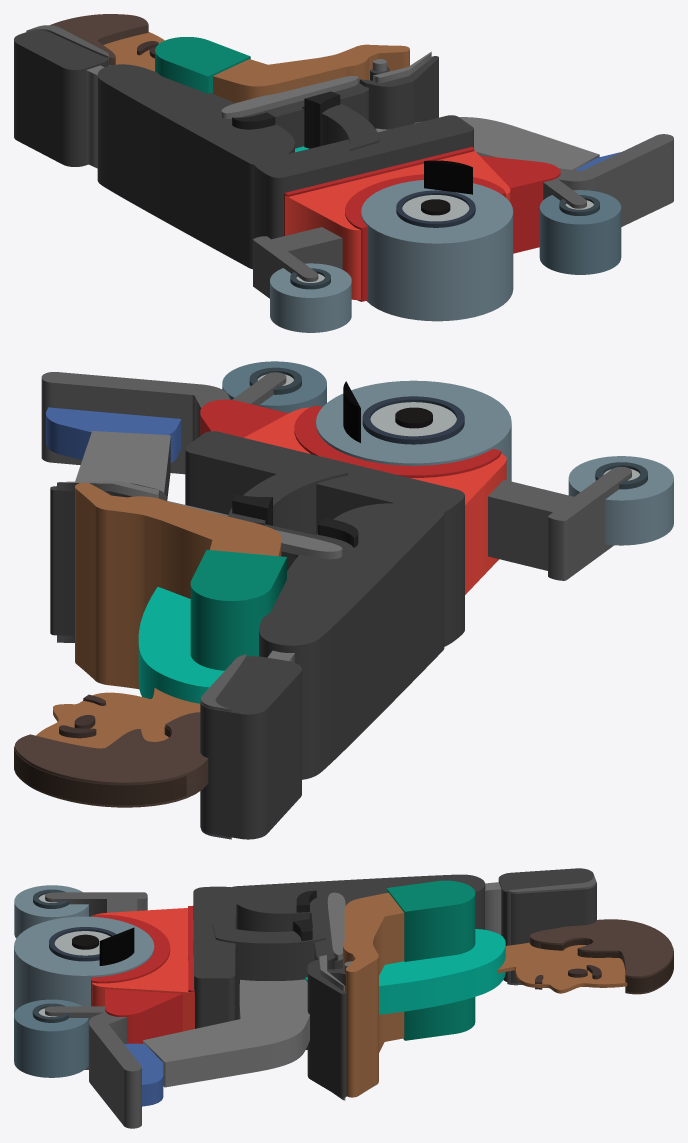
Rendered from emoji_u1f468_1f3fe_200d_1f9bc_200d_27a1.glb.
The picture shows the model from 3 angles, top to bottom: view 1: azimuth 30°, elevation 25°; view 2: azimuth 150°, elevation 25°; view 3: azimuth 270°, elevation 25°; orthographic projection. The views are drawn at different scales.
Parts seen in each view (by area): view 1: emoji_u1f468_1f3fe_200d_1f9bc_200d_27a1; view 2: emoji_u1f468_1f3fe_200d_1f9bc_200d_27a1; view 3: emoji_u1f468_1f3fe_200d_1f9bc_200d_27a1.
Boxes of the visible parts, <box> form: emoji_u1f468_1f3fe_200d_1f9bc_200d_27a1: <box>14,14,673,332</box>; emoji_u1f468_1f3fe_200d_1f9bc_200d_27a1: <box>14,361,673,839</box>; emoji_u1f468_1f3fe_200d_1f9bc_200d_27a1: <box>14,868,673,1128</box>.
Size of the model in its own units: 0.0238 by 0.0072 by 0.0334.
